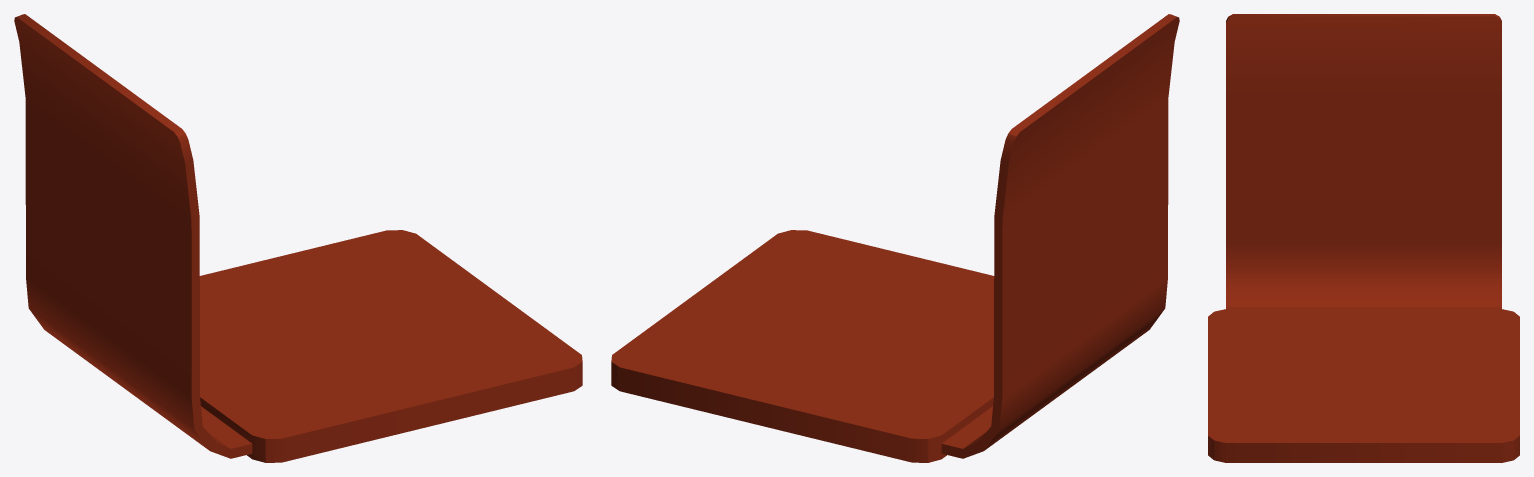
Rendered from Jap_chair.fbx.
3 renders of one model, left to right at view 1: azimuth 30°, elevation 25°; view 2: azimuth 150°, elevation 25°; view 3: azimuth 270°, elevation 25°, orthographic. The views are drawn at different scales.
Parts seen in each view (by area): view 1: Box071; view 2: Box071; view 3: Box071.
Part boxes in pixels (bbox=[...]): Box071: bbox=[14, 14, 582, 462]; Box071: bbox=[611, 14, 1179, 462]; Box071: bbox=[1208, 14, 1519, 462].
Size of the model in its own units: 65.54 by 53.26 by 52.65.
